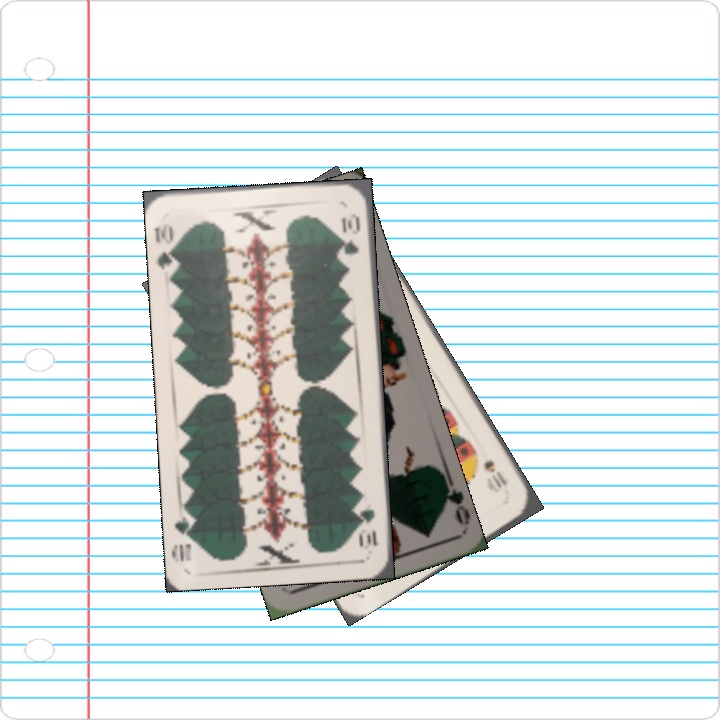G10: (152, 219, 182, 274), (355, 505, 381, 552)
GO: (438, 470, 471, 528)
S10: (479, 455, 510, 491)
